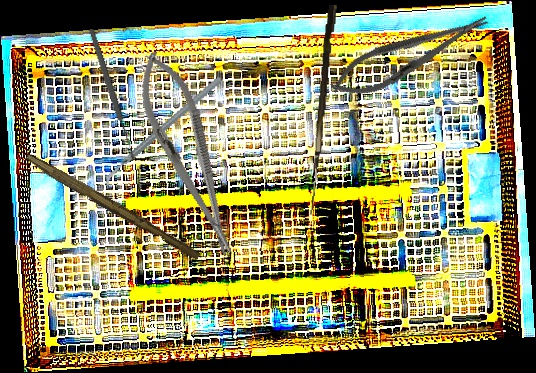Chopper: (82, 76, 243, 190)
Hook Surgical: (310, 4, 337, 216)
Needle Holder: (125, 44, 251, 264), (323, 1, 497, 109)
Scalpel Handle: (22, 152, 203, 262)
Surgical Spoon: (87, 28, 137, 160)
